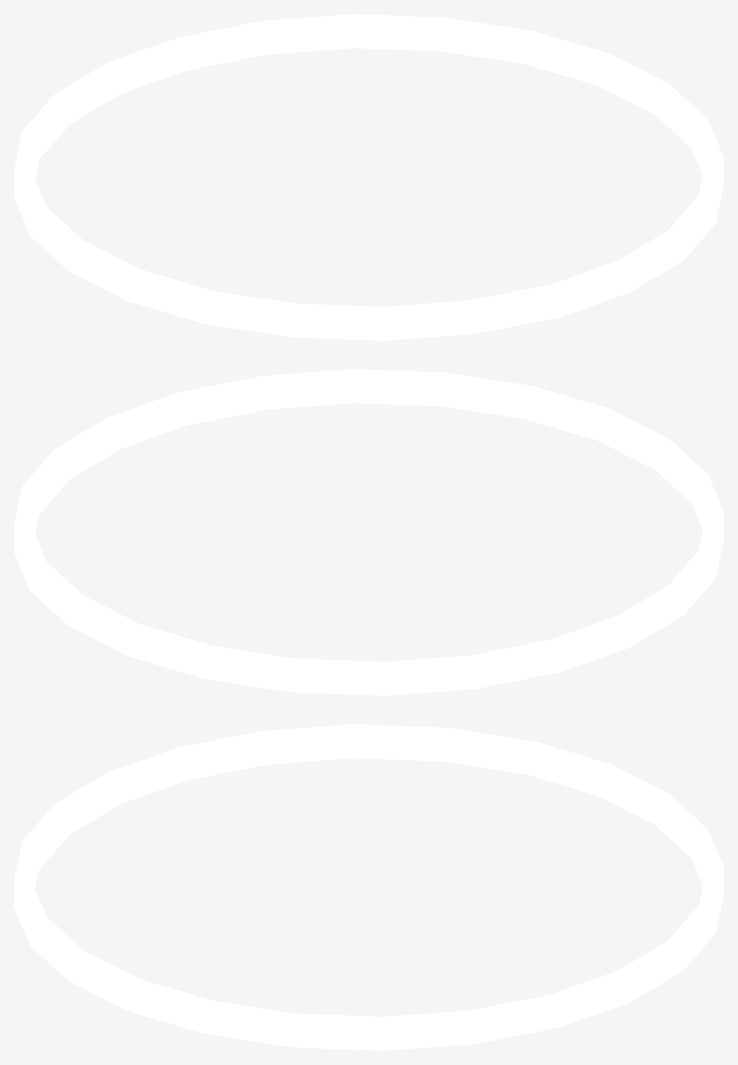
Rendered from frame-neon-vapor-02.glb.
3 views of the same model, one above another, from view 1: azimuth 30°, elevation 25°; view 2: azimuth 150°, elevation 25°; view 3: azimuth 270°, elevation 25° (orthographic).
Parts seen in each view (by area): view 1: Frame_Neon_Vapor_02; view 2: Frame_Neon_Vapor_02; view 3: Frame_Neon_Vapor_02.
Boxes of the visible parts, bbox=[...] form: Frame_Neon_Vapor_02: bbox=[14, 14, 723, 340]; Frame_Neon_Vapor_02: bbox=[14, 369, 723, 695]; Frame_Neon_Vapor_02: bbox=[14, 724, 723, 1050].
Bounding box in the file's own units: 9.12 × 0.3786 × 9.12.
Materials: 1 (1 with a texture image).
